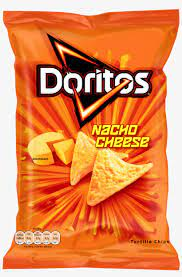Doritos: (6, 7, 181, 272)
